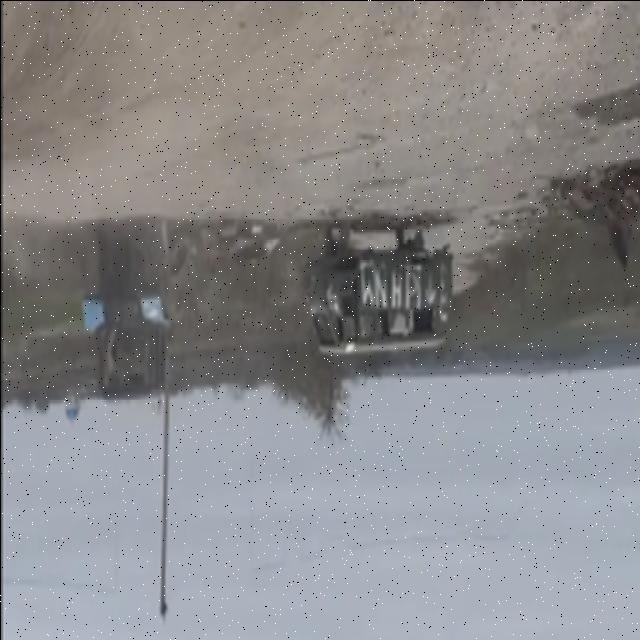CAR: (302, 213, 453, 364)
